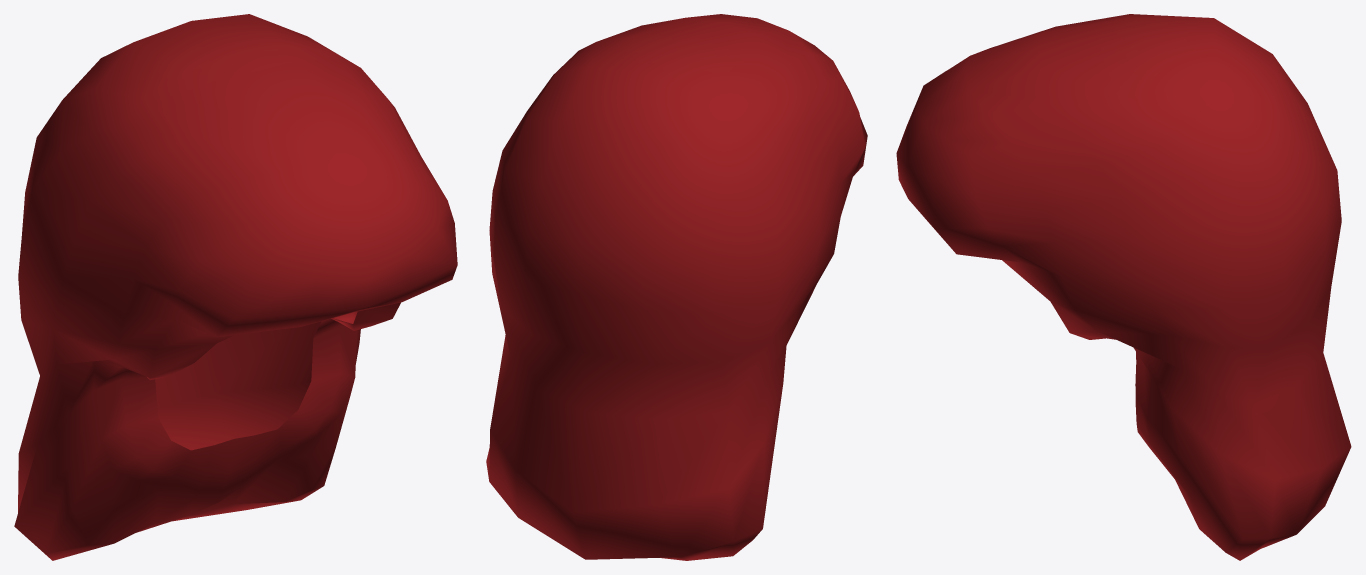
Rendered from NPC_RedHair2.gltf.
The picture shows the model from 3 angles, left to right: view 1: azimuth 30°, elevation 25°; view 2: azimuth 150°, elevation 25°; view 3: azimuth 270°, elevation 25°; orthographic projection. The views are drawn at different scales.
Visible parts, largest first — view 1: NPC_RedHair.002; view 2: NPC_RedHair.002; view 3: NPC_RedHair.002.
Boxes of the visible parts, x1,y1,x2,y2 form: NPC_RedHair.002: (14, 14, 457, 560); NPC_RedHair.002: (486, 14, 867, 560); NPC_RedHair.002: (896, 14, 1351, 560).
Size of the model in its own units: 0.5966 by 0.8927 by 0.7706.
1 material, 1 textured.
